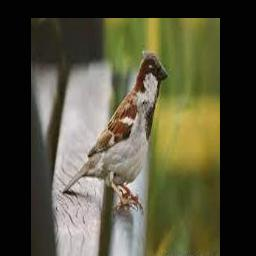Sparrow: (62, 51, 167, 215)
